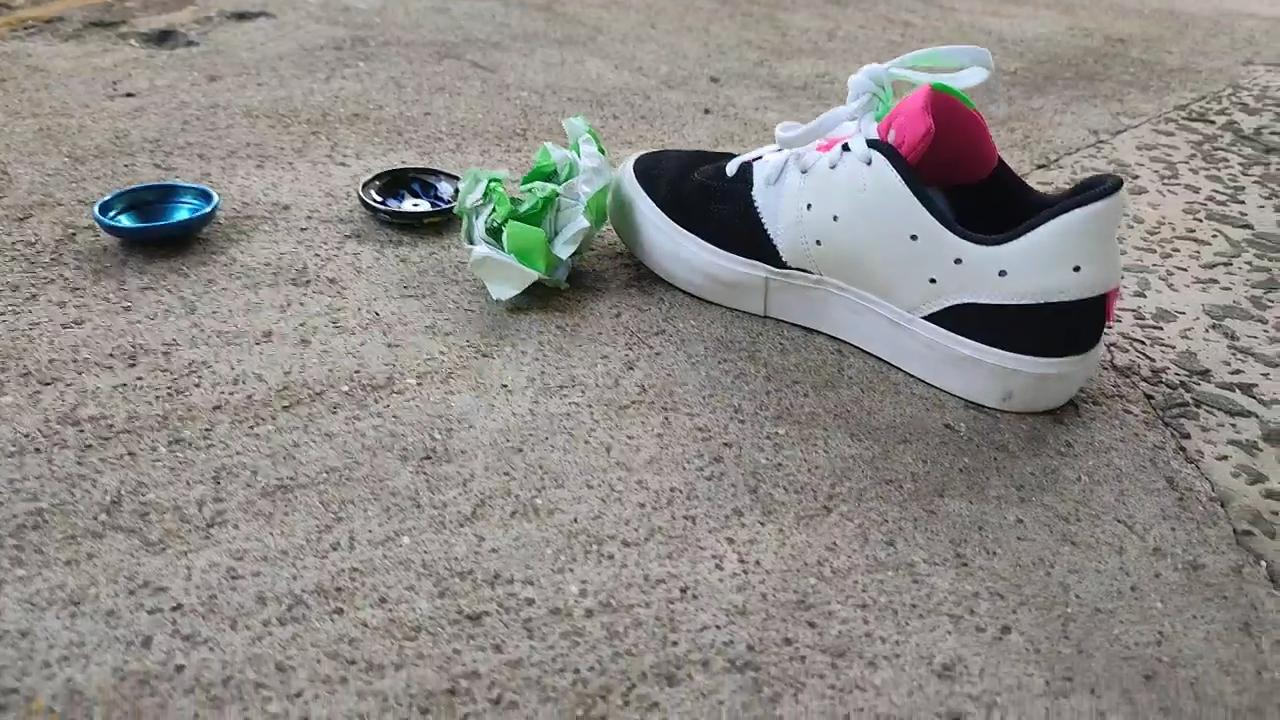Paper: (451, 106, 612, 304)
